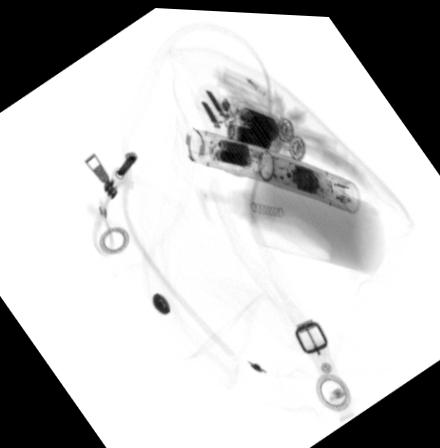Baton: (184, 124, 363, 212)
